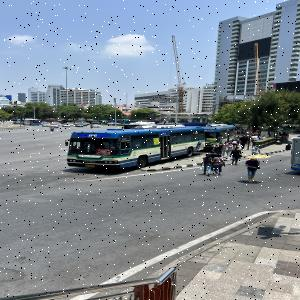BMTA-bus: (65, 126, 206, 171), (198, 124, 239, 149)
Bus Line Number: (86, 134, 98, 138)
Bus Side Number: (103, 158, 115, 160), (211, 143, 217, 145)
Destination Sign: (96, 148, 111, 154), (206, 138, 216, 141)
